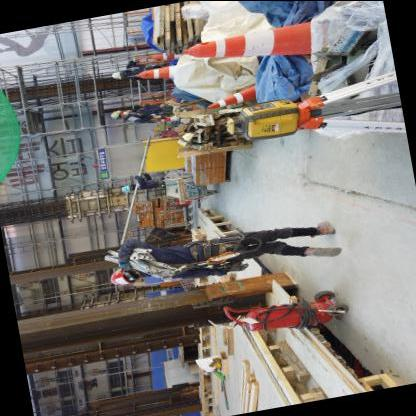safety-shoe: (302, 238, 350, 266), (309, 212, 336, 240)
